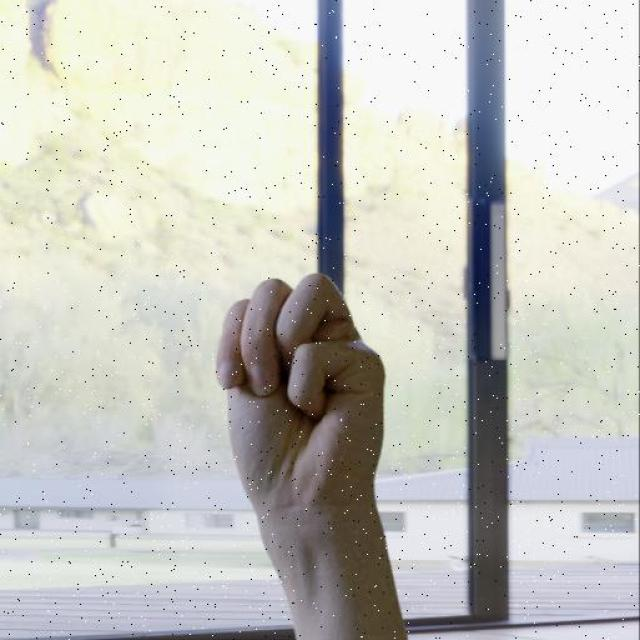M: (213, 268, 392, 516)
